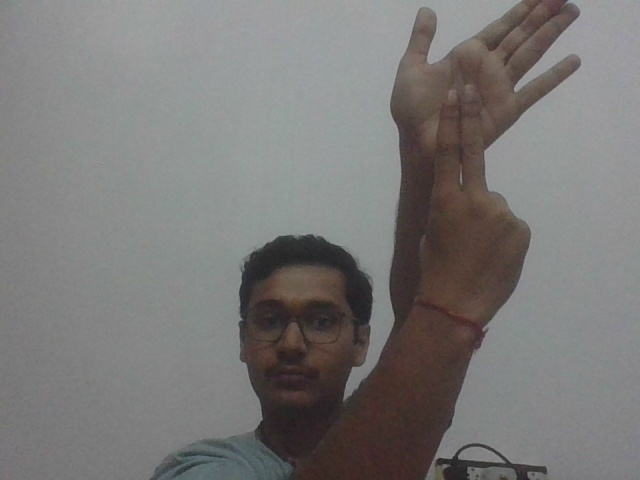N: (377, 1, 603, 245)
